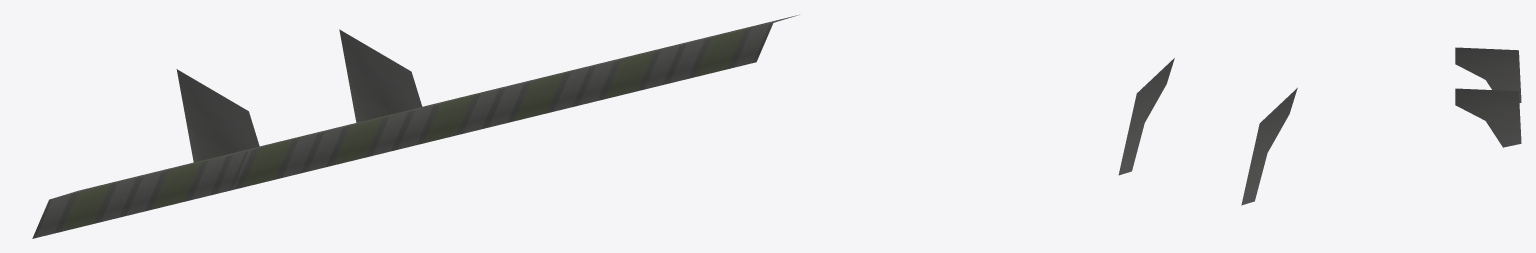
File: awning.glb
3 renders of one model, left to right at view 1: azimuth 30°, elevation 25°; view 2: azimuth 150°, elevation 25°; view 3: azimuth 270°, elevation 25°, orthographic. The views are drawn at different scales.
Parts seen in each view (by area): view 1: rsrc.world.prop.city_base.awning-Variant[awning_x4]-Submesh[, rsrc.world.prop.city_base.awning-Variant[awning_x3]-Submesh[, rsrc.world.prop.city_base.awning-Variant[awning_x2]-Submesh[, rsrc.world.prop.city_base.awning-Variant[awning_x1_cap]-Subm, rsrc.world.prop.city_base.awning-Variant[awning_cap_L]-Subme, rsrc.world.prop.city_base.awning-Variant[awning_cap_R]-Subme; view 2: rsrc.world.prop.city_base.awning-Variant[awning_x1_cap]-Subm, rsrc.world.prop.city_base.awning-Variant[awning_cap_L]-Subme; view 3: rsrc.world.prop.city_base.awning-Variant[awning_x1_cap]-Subm, rsrc.world.prop.city_base.awning-Variant[awning_cap_R]-Subme.
Boxes of the visible parts, x1=… form: rsrc.world.prop.city_base.awning-Variant[awning_x4]-Submesh[: x1=33, y1=14, x2=799, y2=238; rsrc.world.prop.city_base.awning-Variant[awning_x3]-Submesh[: x1=32, y1=60, x2=612, y2=238; rsrc.world.prop.city_base.awning-Variant[awning_x2]-Submesh[: x1=227, y1=62, x2=607, y2=179; rsrc.world.prop.city_base.awning-Variant[awning_x1_cap]-Subm: x1=176, y1=69, x2=319, y2=194; rsrc.world.prop.city_base.awning-Variant[awning_cap_L]-Subme: x1=339, y1=29, x2=429, y2=122; rsrc.world.prop.city_base.awning-Variant[awning_cap_R]-Subme: x1=217, y1=143, x2=273, y2=192; rsrc.world.prop.city_base.awning-Variant[awning_x1_cap]-Subm: x1=1241, y1=87, x2=1297, y2=205; rsrc.world.prop.city_base.awning-Variant[awning_cap_L]-Subme: x1=1118, y1=58, x2=1174, y2=175; rsrc.world.prop.city_base.awning-Variant[awning_x1_cap]-Subm: x1=1455, y1=88, x2=1521, y2=147; rsrc.world.prop.city_base.awning-Variant[awning_cap_R]-Subme: x1=1455, y1=47, x2=1521, y2=102.
Bounding box in the file's own units: 4.01 × 0.6335 × 0.6129.
1 material, 1 textured.
